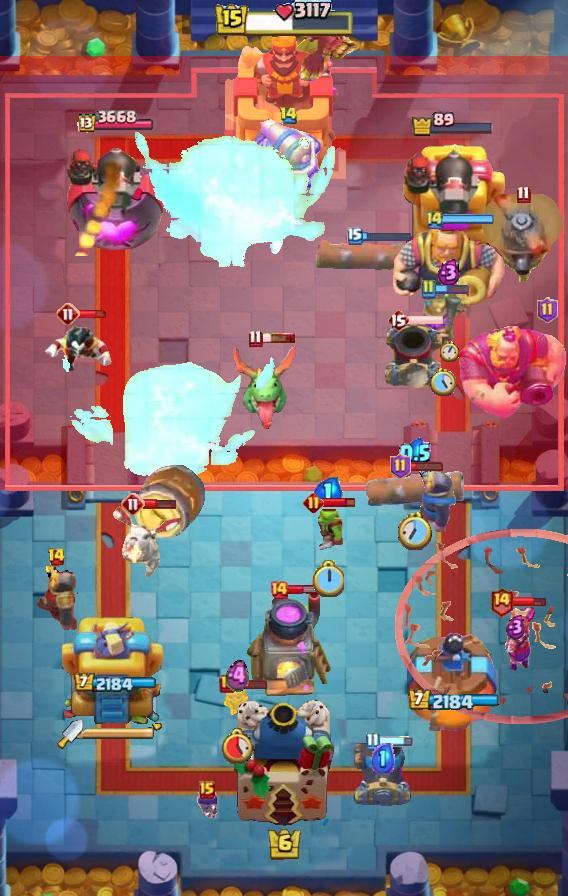bar: (62, 611, 166, 731)
bomb-tower: (421, 293, 465, 347)
clock: (213, 0, 355, 40)
dark-prince: (474, 194, 568, 282)
dirt: (132, 462, 210, 540)
electro-spirit: (399, 437, 431, 469), (314, 477, 343, 507), (226, 658, 249, 693), (437, 257, 461, 286), (372, 743, 395, 773), (506, 614, 526, 640)
electro-wizard: (230, 343, 300, 429)
elixir: (219, 727, 255, 764), (398, 512, 432, 550), (312, 559, 344, 596), (430, 368, 456, 396), (440, 341, 459, 363)
emote: (360, 230, 411, 242), (287, 584, 338, 595), (443, 214, 494, 224), (511, 595, 547, 609), (407, 314, 445, 326), (320, 496, 355, 509), (434, 283, 470, 295), (260, 332, 296, 344), (377, 736, 413, 748), (233, 678, 268, 690), (143, 498, 177, 510), (408, 460, 444, 471), (77, 309, 109, 319)
firecracker: (412, 468, 457, 533), (35, 566, 78, 632)
giant-skeleton: (391, 220, 507, 320)
goblin: (221, 682, 253, 722), (194, 787, 220, 823)
golden-knight: (290, 0, 366, 82)
hunter: (245, 592, 335, 700)
king-tower: (222, 31, 346, 181), (234, 700, 334, 826)
king-tower-bar: (83, 727, 155, 741)
lightning: (456, 324, 568, 420)
lumberjack: (44, 319, 118, 377)
mega-knight: (135, 119, 357, 293), (58, 341, 275, 487)
mini-pekka: (110, 502, 184, 582)
minion: (364, 466, 466, 510), (314, 237, 416, 277)
musketeer: (382, 323, 446, 389), (353, 742, 413, 806)
queen-tower: (407, 633, 499, 731)
royal-recruit: (249, 115, 326, 197)
selected: (407, 689, 499, 713), (411, 111, 495, 137), (75, 110, 153, 135), (72, 673, 155, 695)
skeleton-barrel: (396, 527, 568, 725)
tesla-evolution: (494, 604, 538, 672)
text: (490, 587, 515, 617), (56, 302, 80, 326), (121, 492, 145, 516), (538, 297, 559, 323), (389, 453, 410, 479), (387, 308, 409, 332), (304, 491, 325, 513), (425, 210, 445, 231), (269, 580, 289, 600), (47, 547, 66, 567), (278, 106, 297, 125), (420, 279, 436, 299), (219, 674, 235, 694), (347, 227, 363, 245), (199, 781, 215, 799), (248, 329, 263, 347), (365, 733, 380, 751), (517, 185, 531, 203)
tower-bar: (399, 138, 507, 256), (63, 138, 164, 256)
zap: (309, 505, 347, 551)
